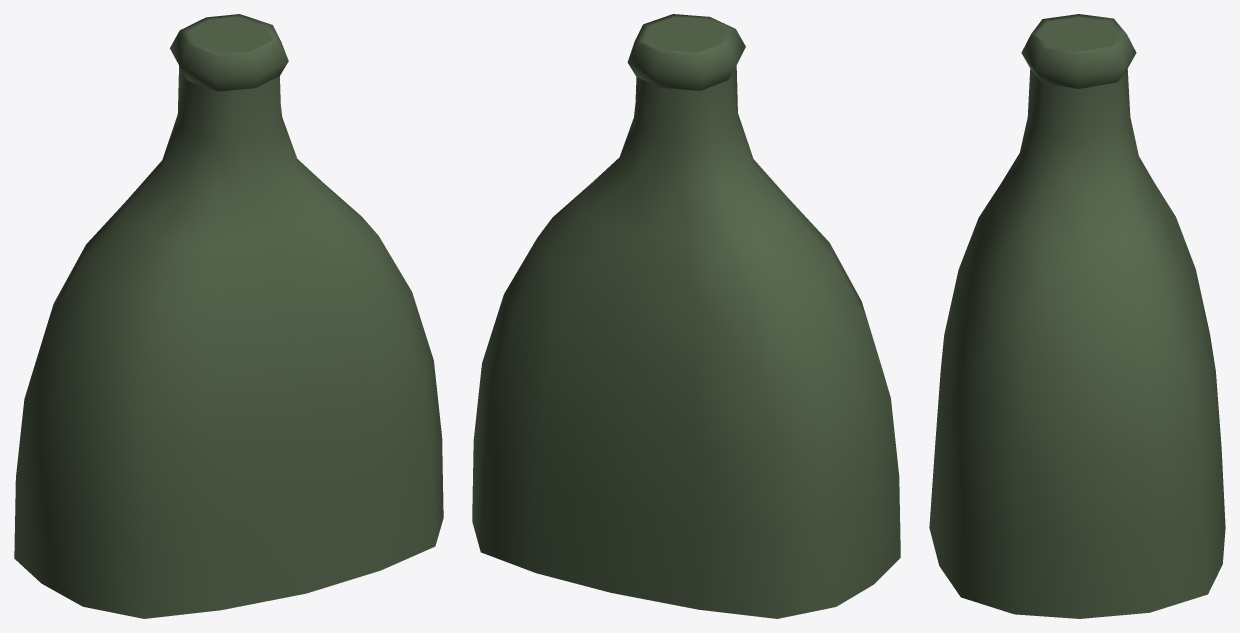
Rendered from flaske4_green.fbx.
3 renders of one model, left to right at view 1: azimuth 30°, elevation 25°; view 2: azimuth 150°, elevation 25°; view 3: azimuth 270°, elevation 25°, orthographic.
Visible parts, largest first — view 1: pCube14; view 2: pCube14; view 3: pCube14.
Part boxes in pixels (x1,y1,x2,y2): pCube14: (14,14,443,618); pCube14: (472,14,900,618); pCube14: (929,14,1225,618).
Size of the model in its own units: 1.71 by 2.17 by 1.18.
